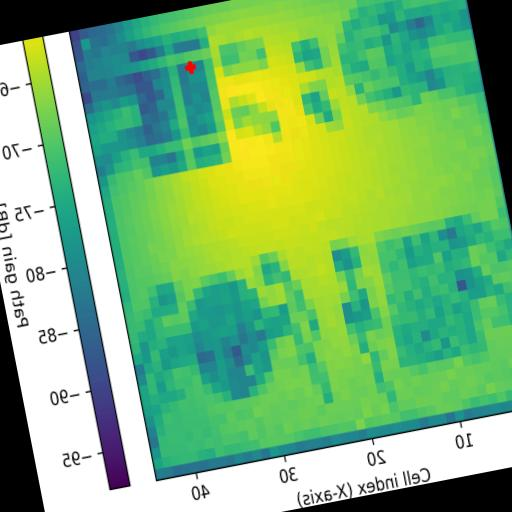Concrete: (117, 26, 231, 179)
Glass: (331, 0, 433, 127)
Metal: (182, 266, 276, 405)
Wood: (374, 216, 488, 369)
